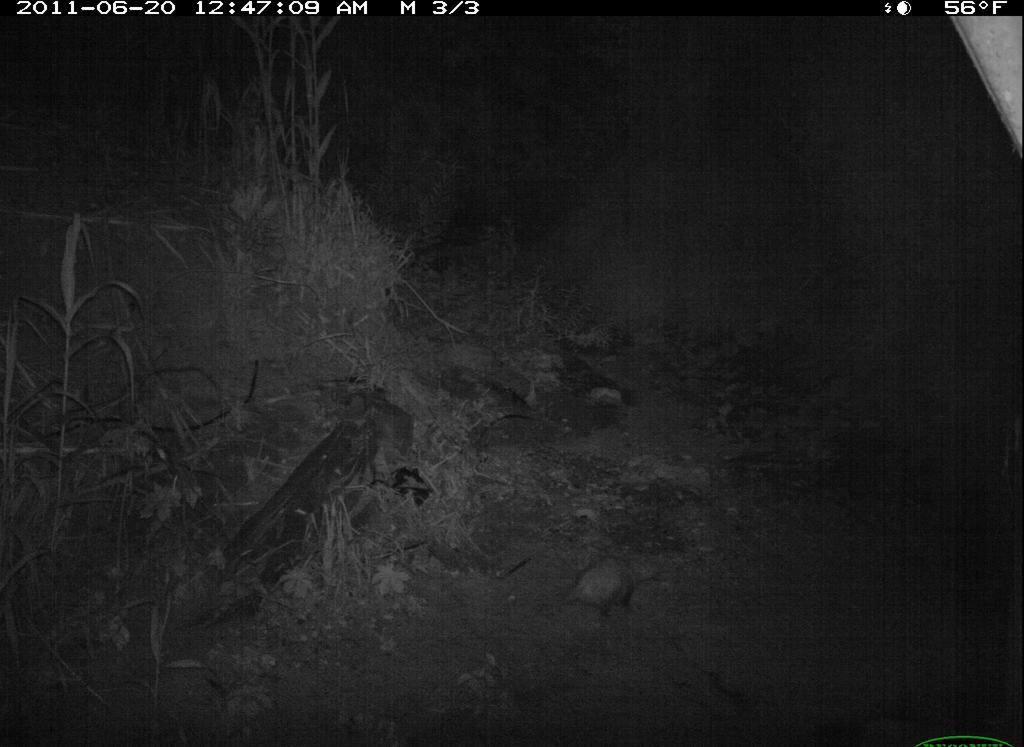opossum: (555, 530, 665, 633)
